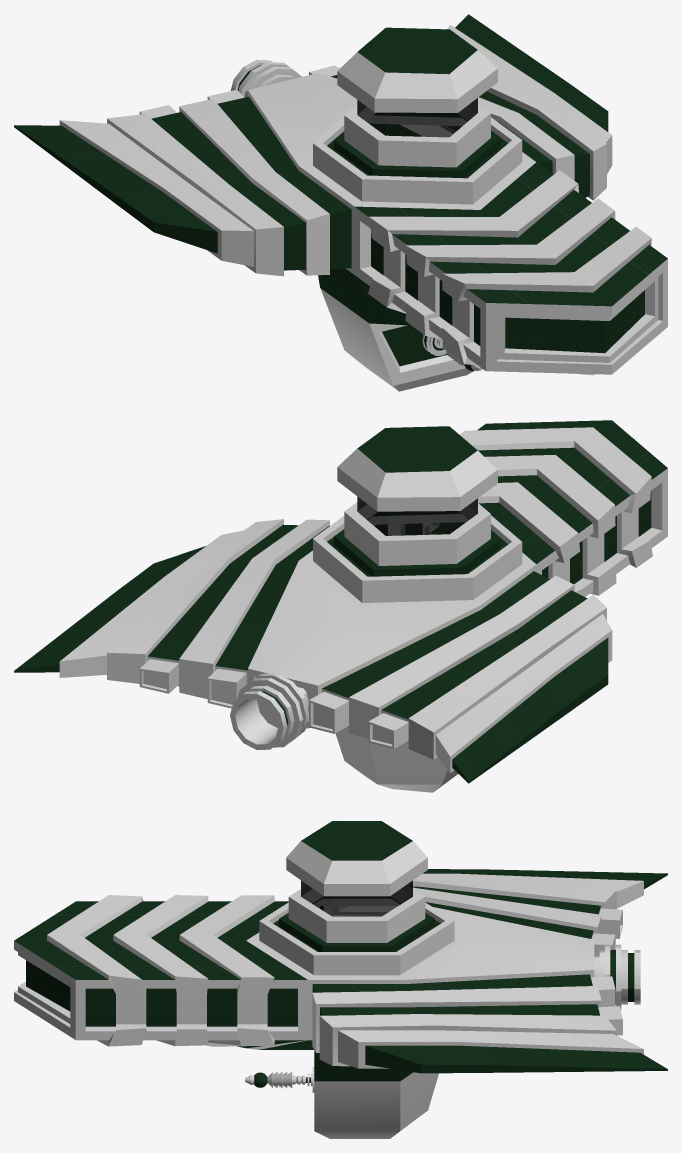
File: DAE.fbx
The picture shows the model from 3 angles, top to bottom: view 1: azimuth 30°, elevation 25°; view 2: azimuth 150°, elevation 25°; view 3: azimuth 270°, elevation 25°; orthographic projection. The views are drawn at different scales.
Visible parts, largest first — view 1: DAE; view 2: DAE; view 3: DAE.
Boxes of the visible parts, bbox=[...] form: DAE: bbox=[14, 14, 667, 391]; DAE: bbox=[14, 420, 667, 792]; DAE: bbox=[14, 821, 667, 1138].
Bounding box in the file's own units: 6.01 × 4.06 × 8.49.
